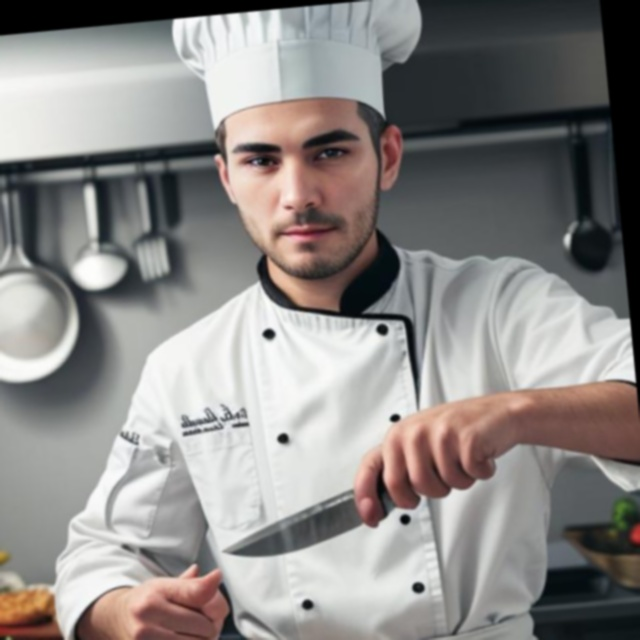Sharp-Object: (212, 449, 484, 563)
